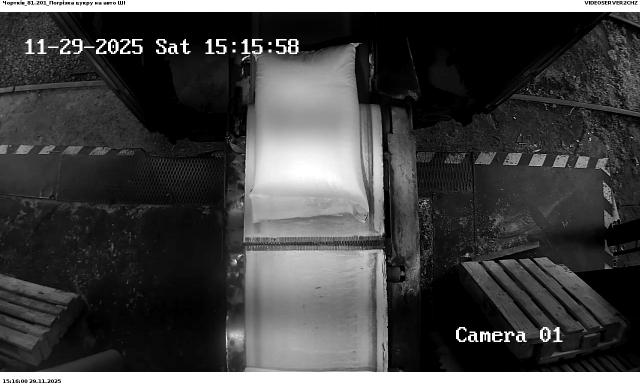bag: (251, 41, 370, 223)
